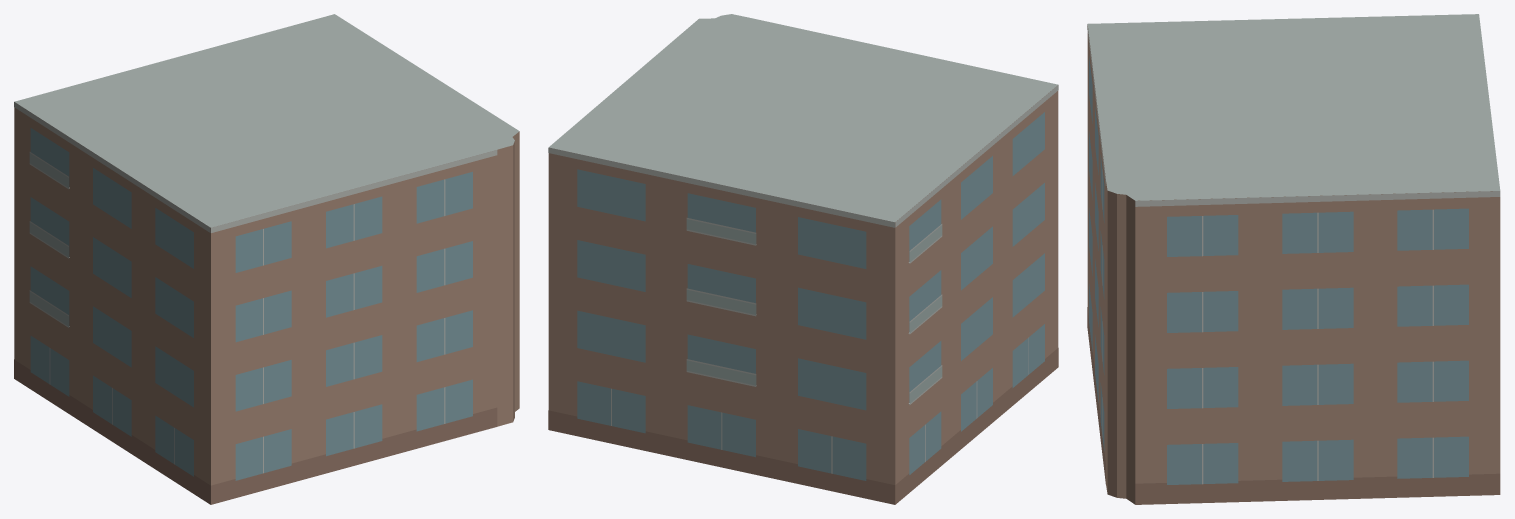
The model's file is survey-upis-32593221.glb.
3 renders of one model, left to right at view 1: azimuth 30°, elevation 25°; view 2: azimuth 150°, elevation 25°; view 3: azimuth 270°, elevation 25°, orthographic. The views are drawn at different scales.
Visible parts, largest first — view 1: survey-upis-32593221.tmp; view 2: survey-upis-32593221.tmp; view 3: survey-upis-32593221.tmp.
Boxes of the visible parts, x1,y1,x2,y2 form: survey-upis-32593221.tmp: [14, 14, 519, 504]; survey-upis-32593221.tmp: [548, 14, 1058, 504]; survey-upis-32593221.tmp: [1087, 14, 1500, 504].
Bounding box in the file's own units: 16.22 × 12.3 × 15.15.
